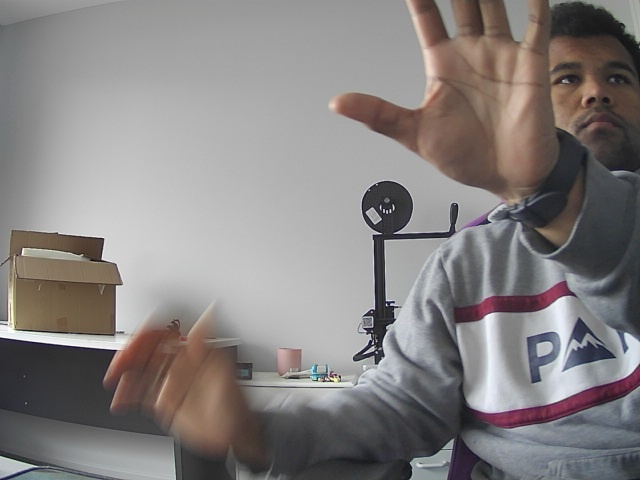Hello: (307, 1, 571, 193)
